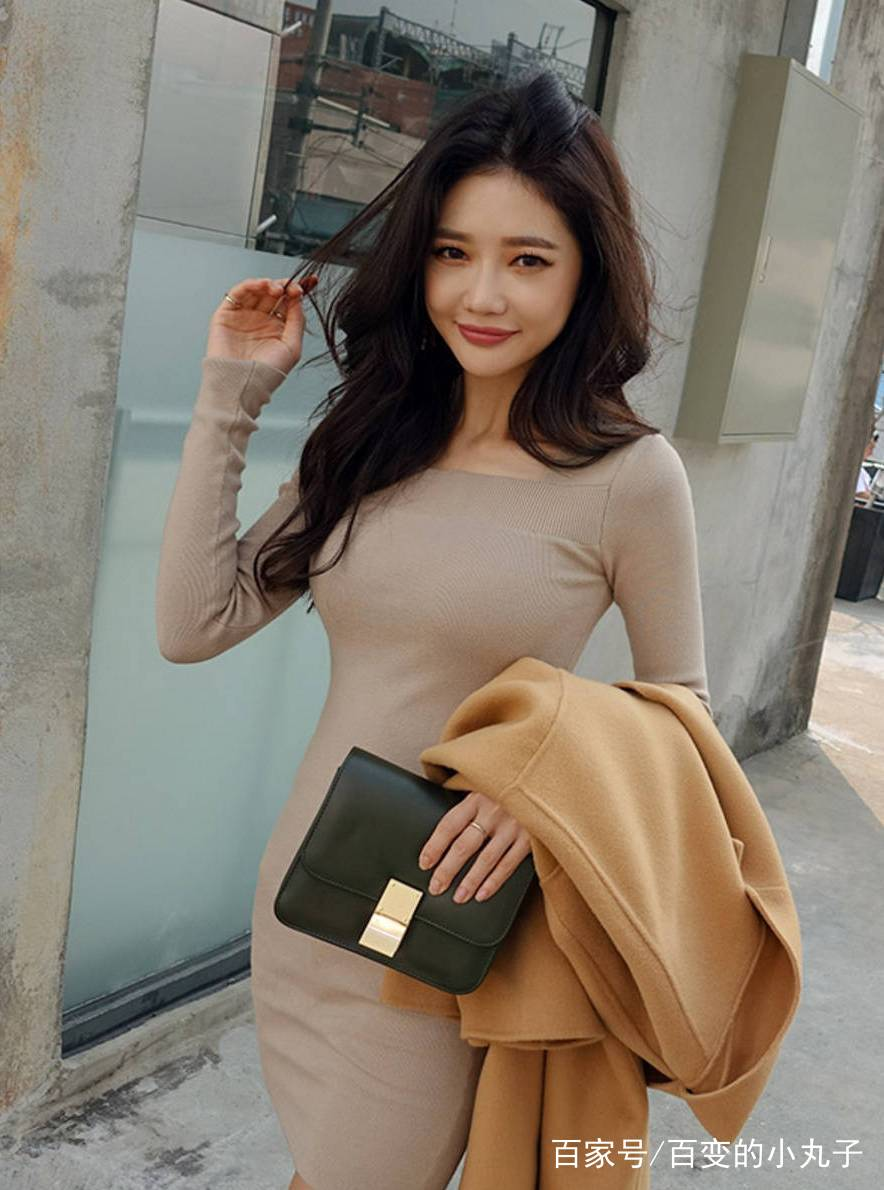person: (162, 129, 709, 1000)
